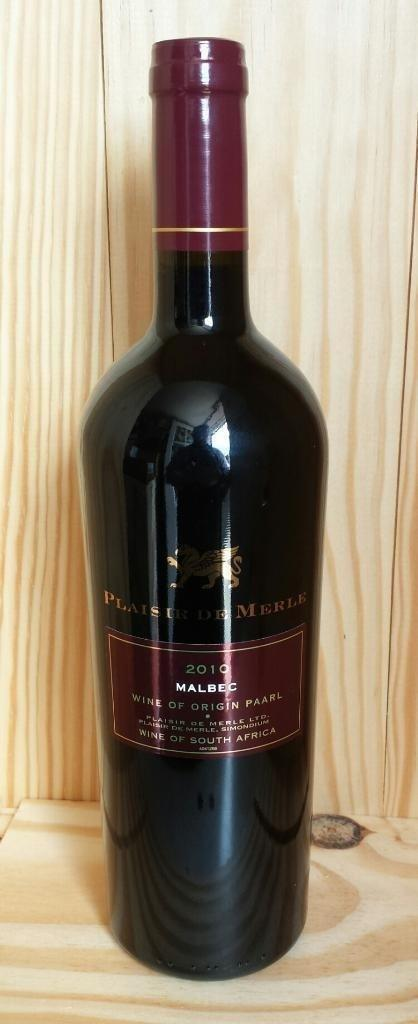bottle-glass: (71, 33, 334, 981)
